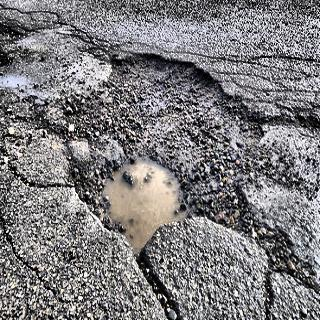alligator-crack: (222, 50, 318, 128)
crack: (1, 214, 66, 302), (1, 0, 110, 50), (0, 153, 76, 191), (131, 261, 132, 262)
pothole: (61, 51, 270, 260), (94, 152, 194, 256)
